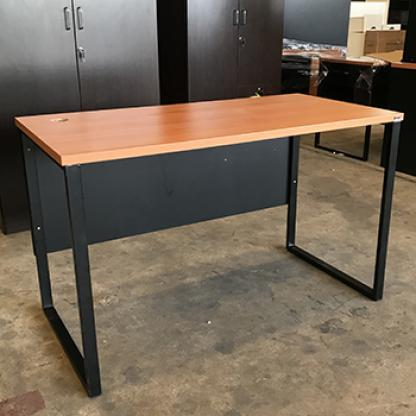table: (12, 90, 407, 401)
